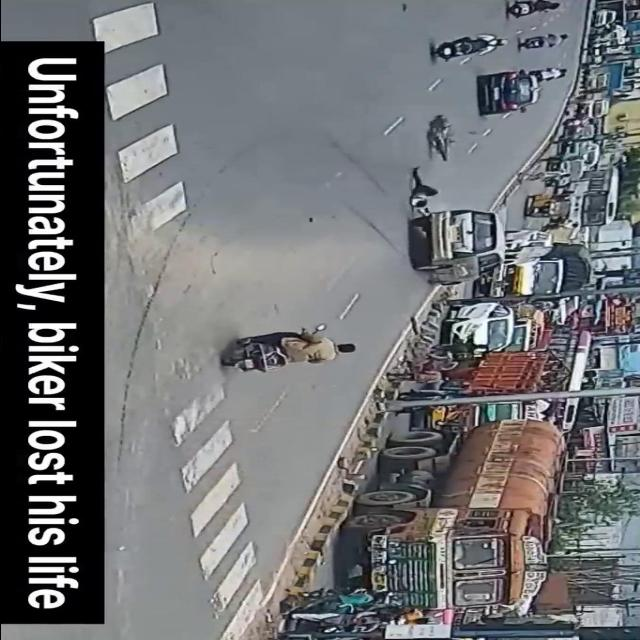accident: (394, 165, 513, 293), (417, 101, 471, 165)
non_accident: (278, 414, 571, 640), (398, 300, 598, 414), (537, 0, 640, 213), (470, 212, 604, 296)
